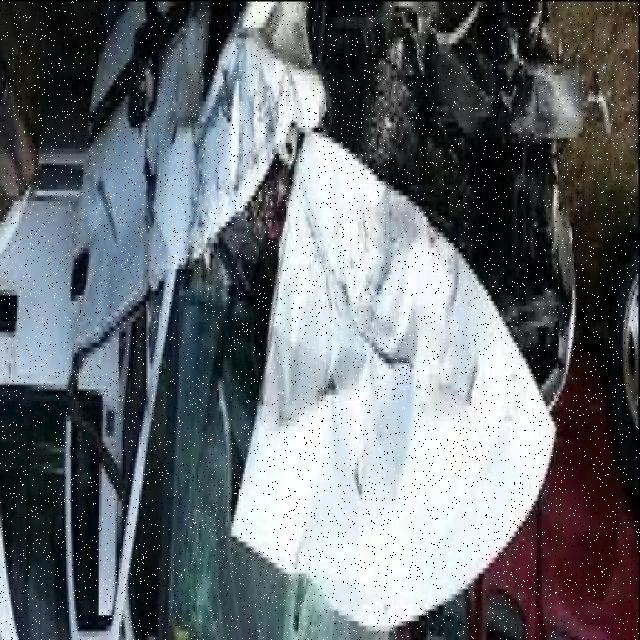damage: (77, 2, 586, 635)
